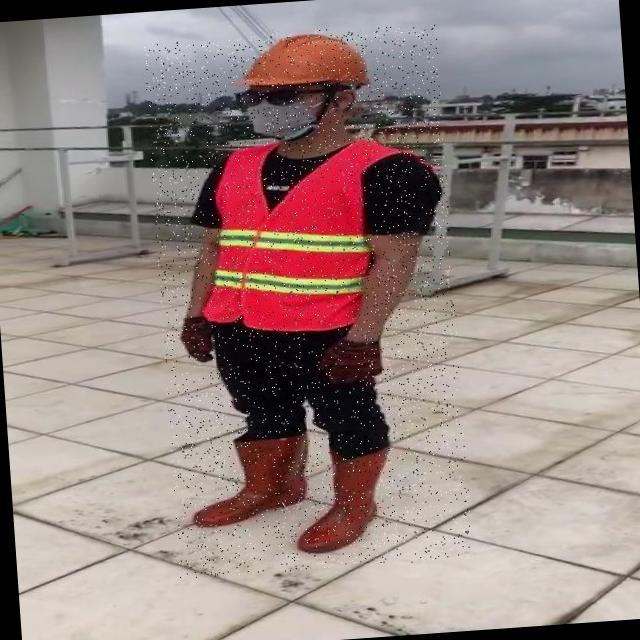boots: (186, 431, 311, 528), (291, 445, 392, 555)
helmet: (232, 26, 374, 98)
vest: (196, 138, 377, 334)
